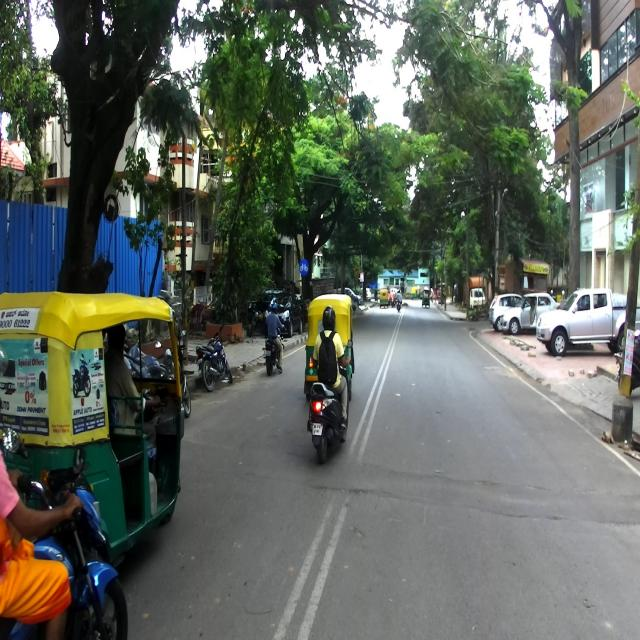autorickshaw: (1, 287, 182, 547)
car: (536, 288, 636, 356)
motorcycle: (611, 322, 638, 397)
scooter: (302, 338, 352, 465)
